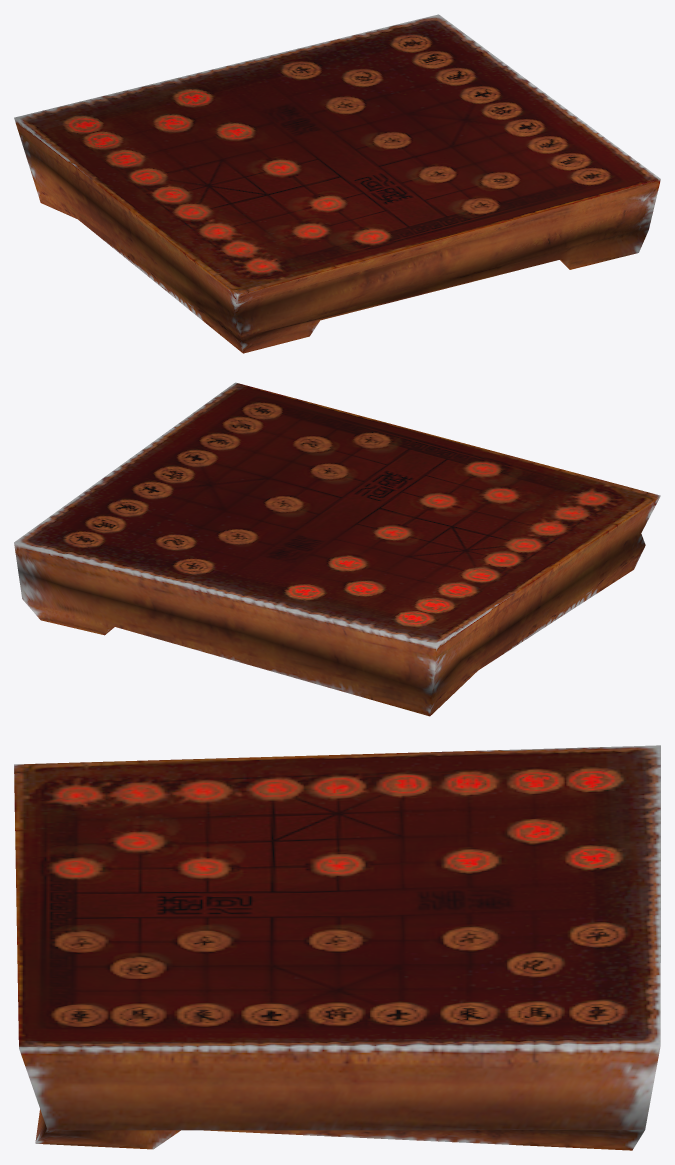
3 views of the same model, one above another, from view 1: azimuth 30°, elevation 25°; view 2: azimuth 150°, elevation 25°; view 3: azimuth 270°, elevation 25° (orthographic). The views are drawn at different scales.
Visible parts, largest first — view 1: pMesh1; view 2: pMesh1; view 3: pMesh1.
Boxes of the visible parts, left/top/right/bottom form: pMesh1: left=14, top=14, right=660, bottom=353; pMesh1: left=14, top=382, right=660, bottom=716; pMesh1: left=14, top=745, right=660, bottom=1150.
Bounding box in the file's own units: 115 × 21.57 × 104.
Materials: 1 (1 with a texture image).
